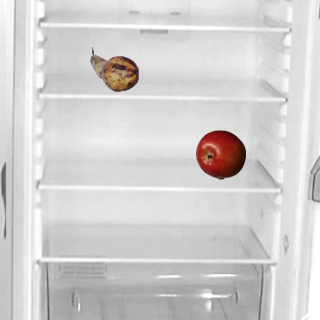Apple Braeburn: (195, 129, 245, 179)
Pear Abate: (89, 44, 139, 94)
